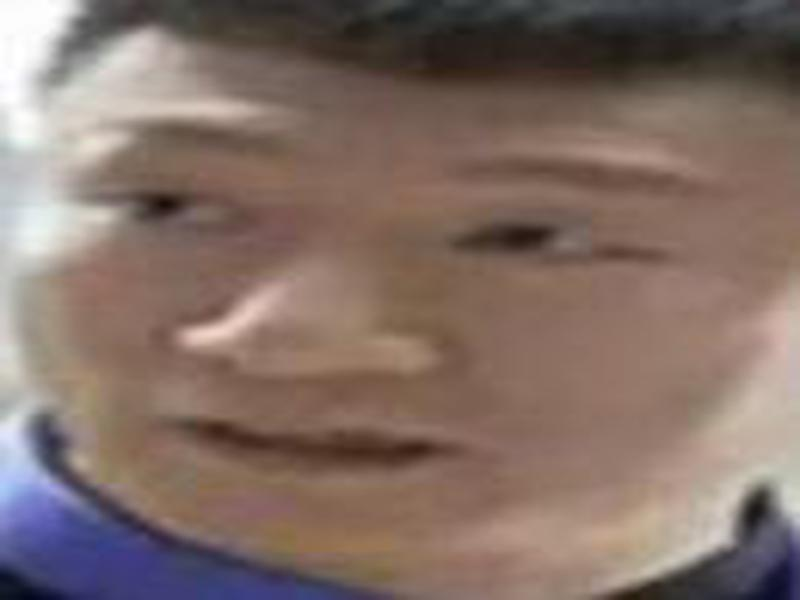without_mask: (12, 51, 793, 572)
